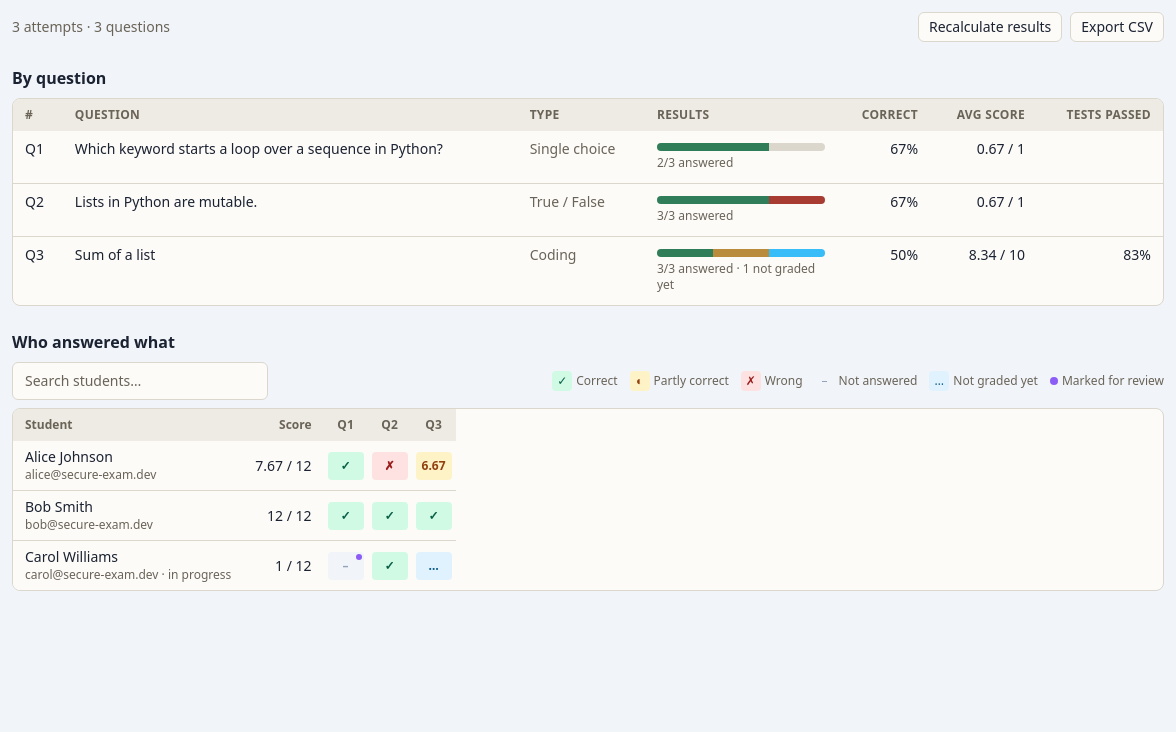
Test case: QuestionsTab › filters students by name or email
Type "bob@" into the field labelled "Search students" at {"x": 140, "y": 381}, box left=12, top=362, right=268, bottom=400
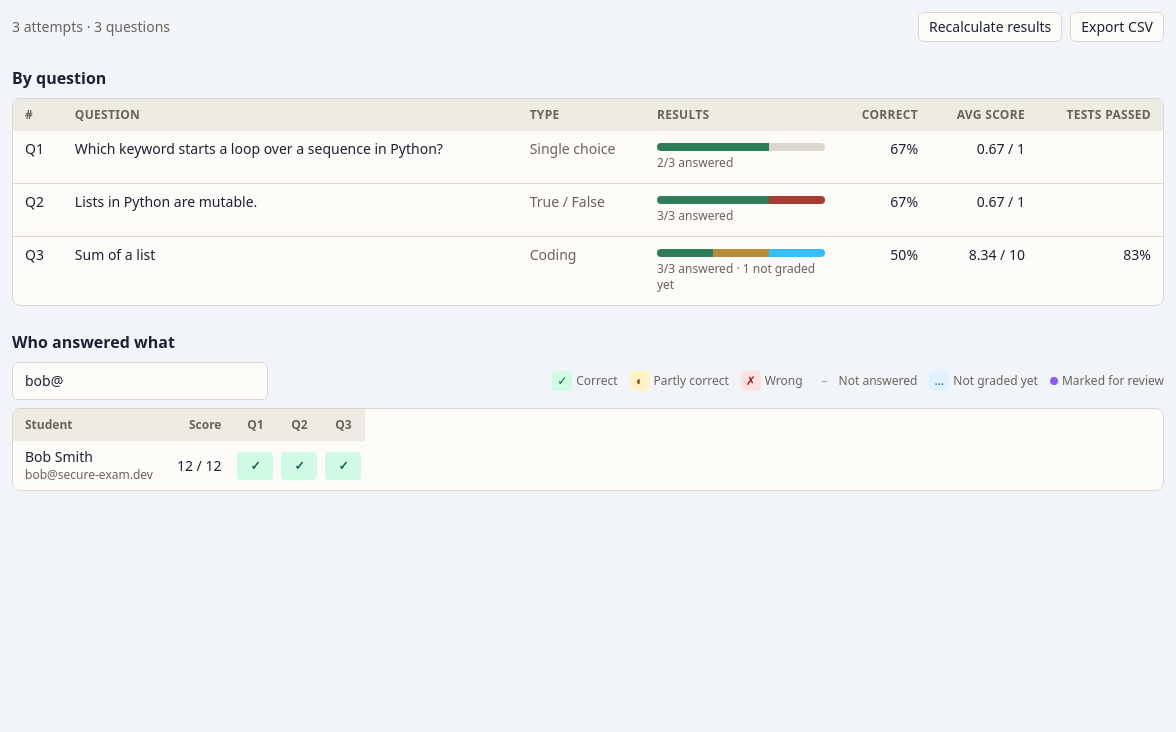
expect the text "Bob Smith" is shown: met, box left=25, top=447, right=93, bottom=466
expect the button "Alice Johnson" is gone: met
